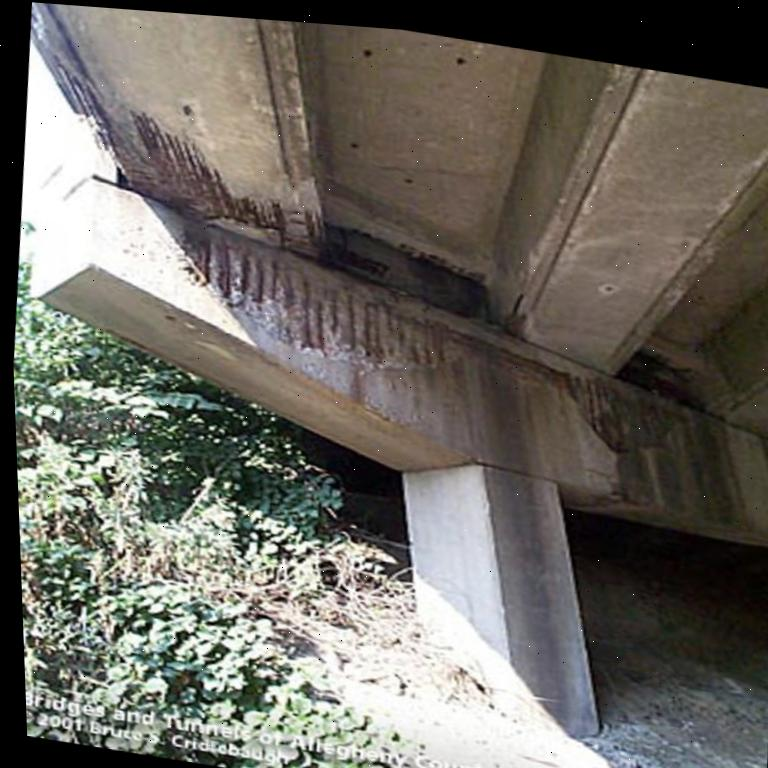spalling: (178, 221, 743, 452), (50, 65, 323, 254)
